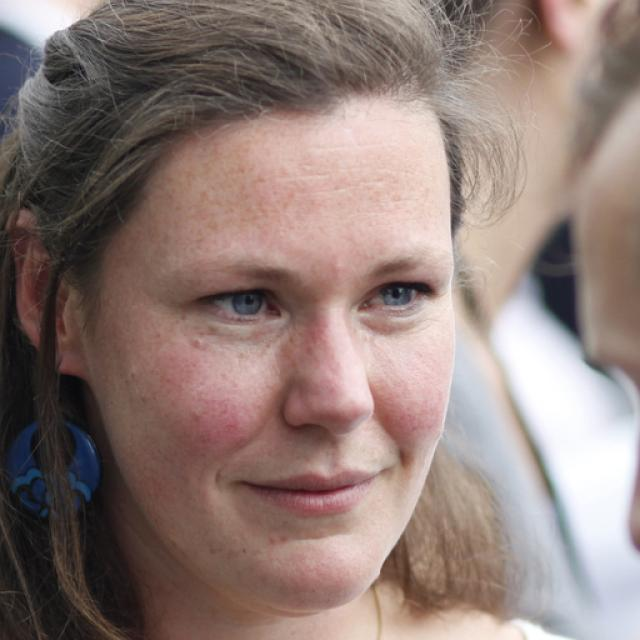Acne: (326, 252, 352, 277), (187, 330, 210, 351)
Pigmentation: (234, 162, 327, 226)
